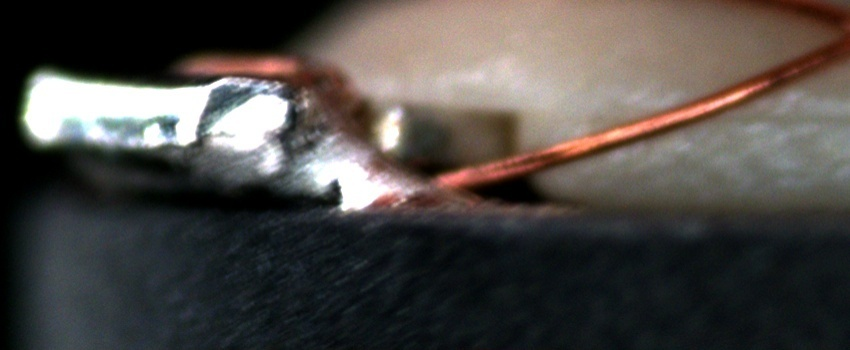DL: (675, 84, 850, 148)
TE: (175, 47, 357, 90)
